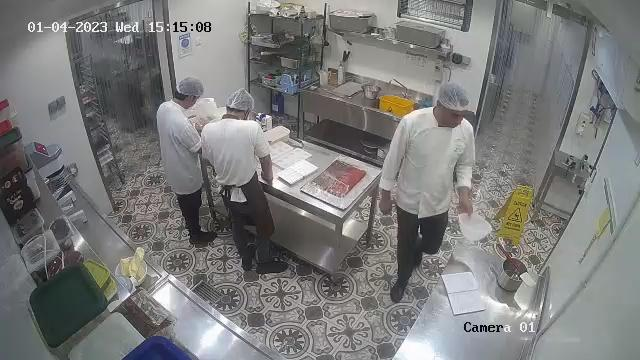no_apron: (402, 109, 470, 214)
